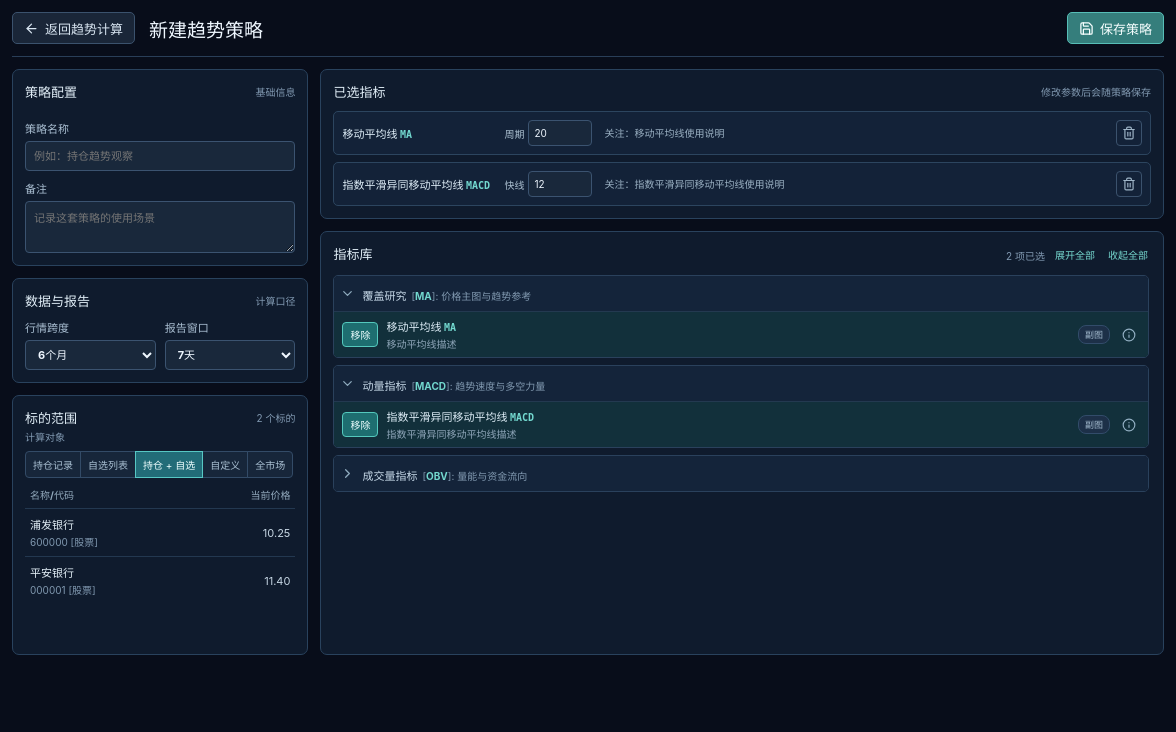
Test: TrendStrategyEditorView › expands structured indicator help with meaning, usage, and trend judgment
Click the button named "查看 MA 指标说明". click: {"x": 1129, "y": 334}
box: [1118,324,1140,346]
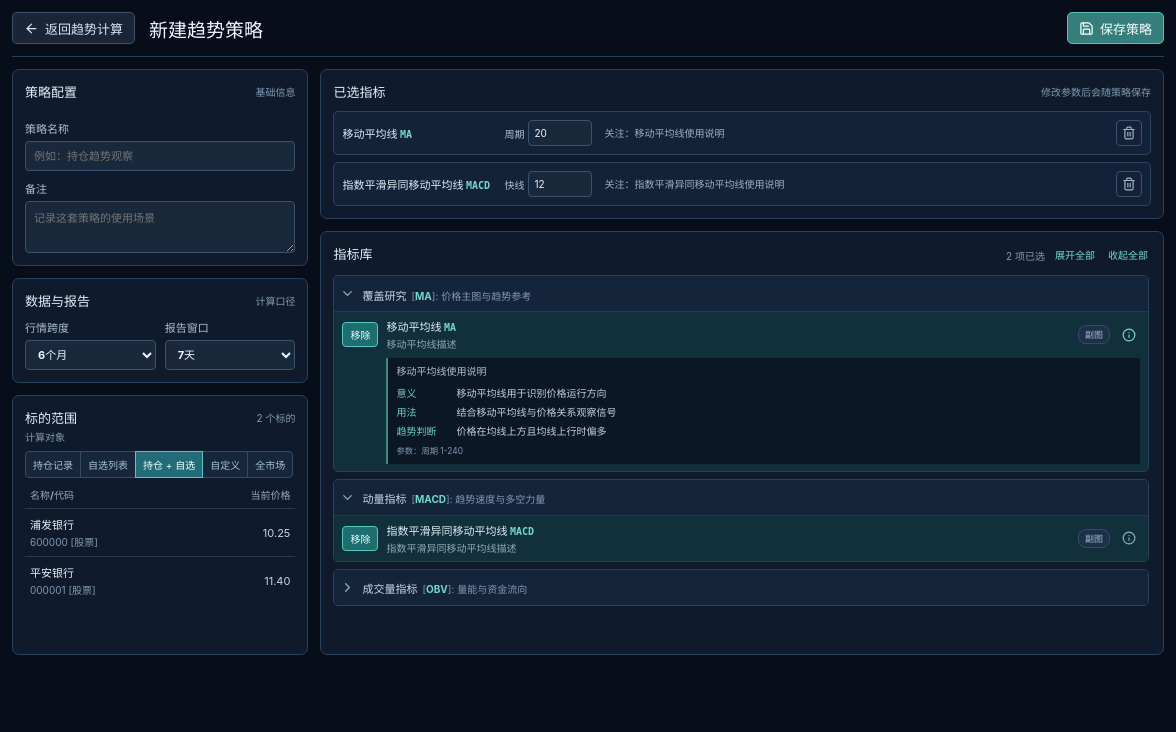
expect the element with class "strategy-indicator-details" shows "意义": met, box [396,387,416,399]
expect the element with class "strategy-indicator-details" shows "移动平均线用于识别价格运行方向": met, box [456,387,606,399]
expect the element with class "strategy-indicator-details" shows "用法": met, box [396,406,416,418]
